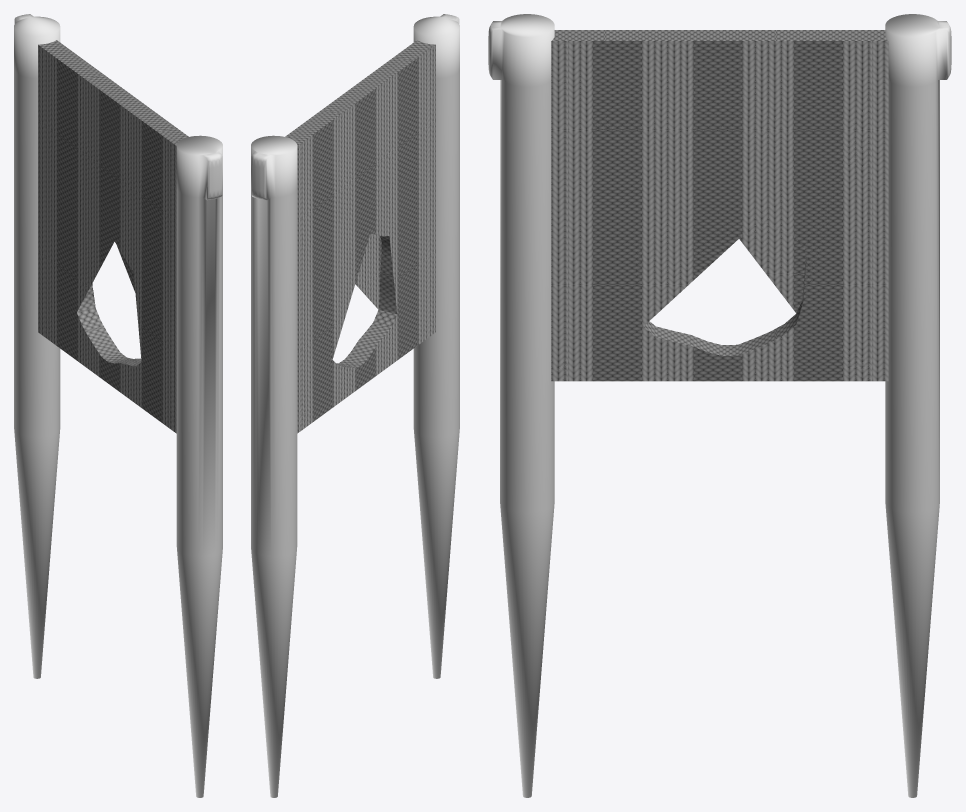
The model's file is Speed enemy.fbx.
3 renders of one model, left to right at view 1: azimuth 30°, elevation 25°; view 2: azimuth 150°, elevation 25°; view 3: azimuth 270°, elevation 25°, orthographic. The views are drawn at different scales.
Parts seen in each view (by area): view 1: Plane, Cylinder.001, Cylinder; view 2: Plane, Cylinder, Cylinder.001; view 3: Plane, Cylinder, Cylinder.001.
Boxes of the visible parts, x1=… form: Plane: x1=38, y1=40, x2=188, y2=433; Cylinder.001: x1=176, y1=135, x2=222, y2=797; Cylinder: x1=14, y1=14, x2=60, y2=678; Plane: x1=285, y1=40, x2=435, y2=433; Cylinder: x1=251, y1=135, x2=297, y2=797; Cylinder.001: x1=413, y1=14, x2=459, y2=678; Plane: x1=551, y1=30, x2=888, y2=381; Cylinder: x1=885, y1=14, x2=951, y2=797; Cylinder.001: x1=488, y1=14, x2=554, y2=797.
Bounding box in the file's own units: 21.32 × 330 × 180.
2 materials, 1 textured.
